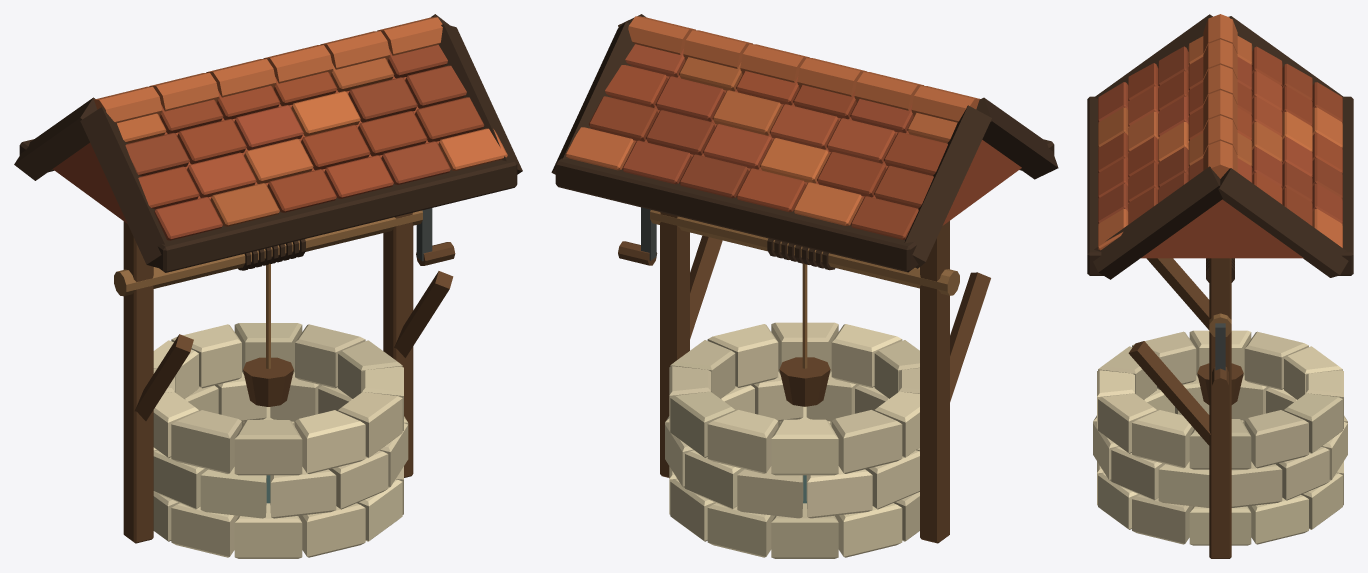
File: well.glb
3 renders of one model, left to right at view 1: azimuth 30°, elevation 25°; view 2: azimuth 150°, elevation 25°; view 3: azimuth 270°, elevation 25°, orthographic. The views are drawn at different scales.
Parts seen in each view (by area): view 1: Roof, Stone, Timber, Metal; view 2: Roof, Stone, Timber, Metal; view 3: Stone, Roof, Timber, Metal.
Part boxes in pixels (<box>): Roof: <box>53,17,507,240</box>; Stone: <box>153,323,408,558</box>; Timber: <box>14,14,522,543</box>; Metal: <box>416,208,432,261</box>; Roof: <box>565,16,1021,239</box>; Stone: <box>665,322,919,558</box>; Timber: <box>551,14,1058,543</box>; Metal: <box>641,207,656,260</box>; Stone: <box>1093,330,1347,545</box>; Roof: <box>1098,14,1342,258</box>; Timber: <box>1087,14,1353,558</box>; Metal: <box>1215,323,1225,370</box>.
Size of the model in its own units: 3.01 by 3.43 by 2.03.
